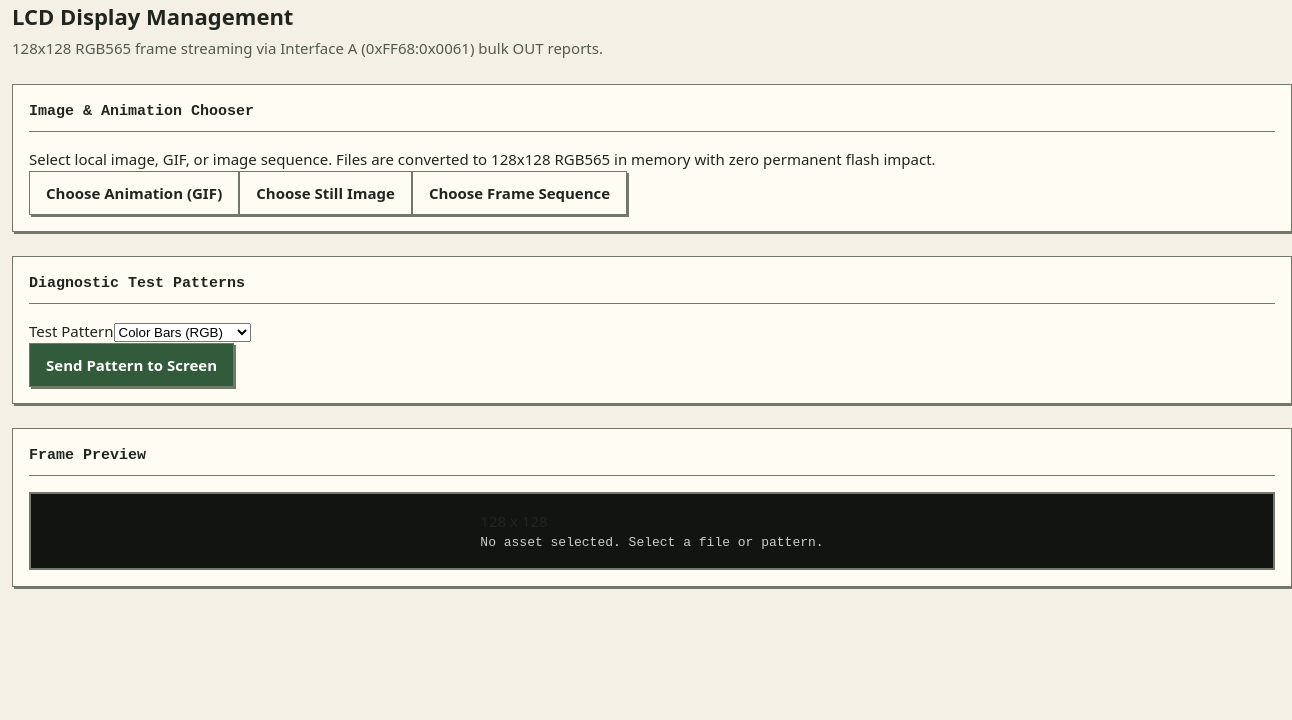
LcdPage Workflow and Safety Rails › chooses an asset and renders actual converted preview with metadata
The image size is (1292, 720).
Expected: the heading "LCD Display Management" is shown, [12,1,293,31]
Click the button "Choose Animation (GIF)".
click(134, 192)  # box [29,170,239,214]
(page scrolled)
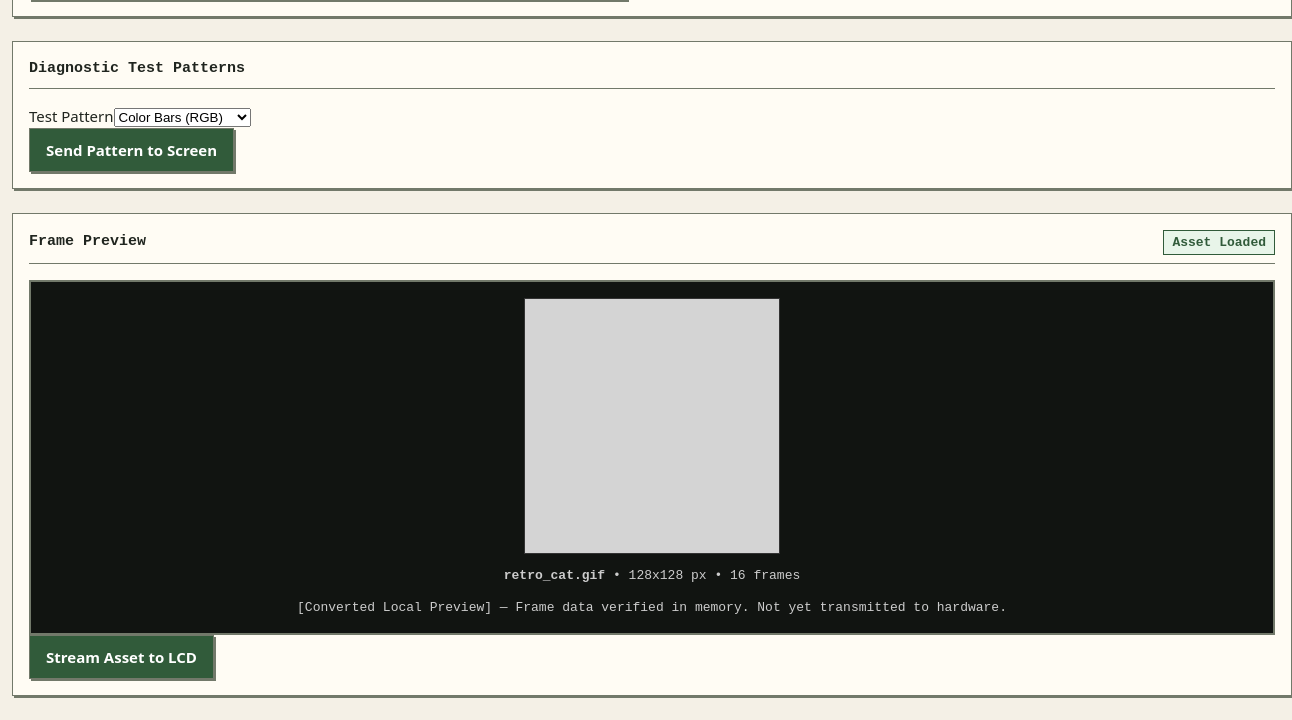
Now the text "retro_cat.gif" is shown, box [504,568,605,583]
Now the text "retro_cat.gif • 128x128 px • 16 frames" is shown, box [504,566,800,586]
Now the text "Converted Local Preview" is shown, box [297,600,1007,614]
